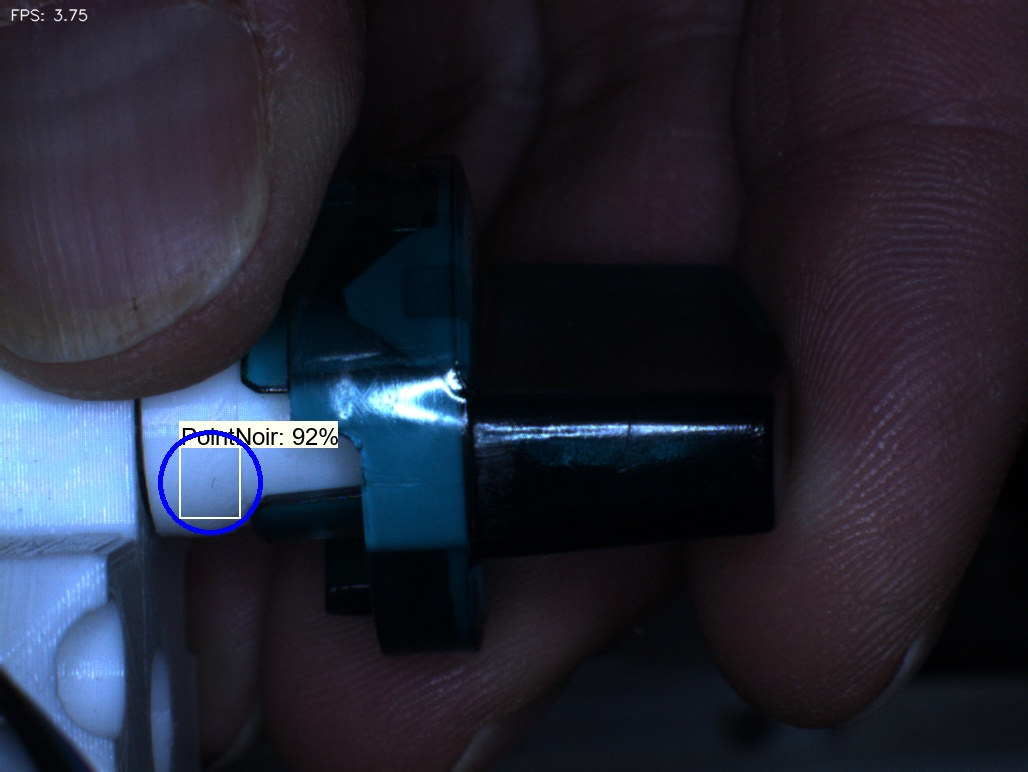DentOk: (319, 244, 390, 339)
